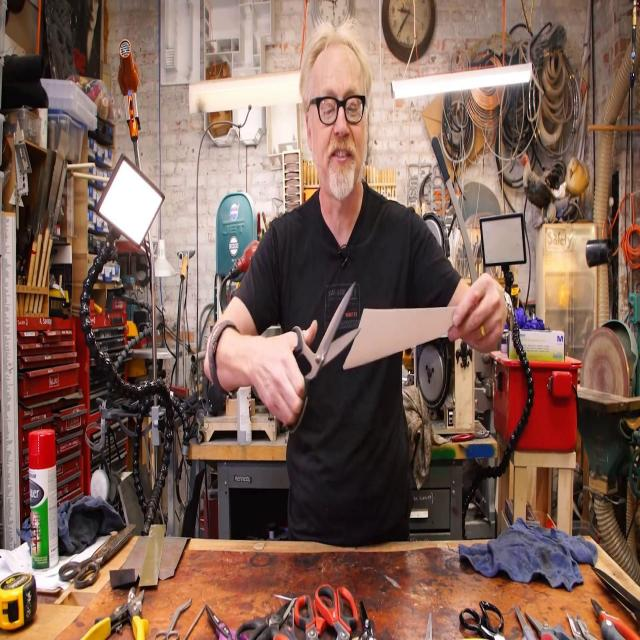scissor: (286, 280, 361, 434), (58, 524, 137, 588), (234, 600, 294, 640), (316, 585, 358, 640), (460, 600, 507, 640), (294, 592, 329, 640), (154, 597, 191, 640), (205, 606, 249, 640), (525, 610, 572, 640), (274, 604, 303, 640)
